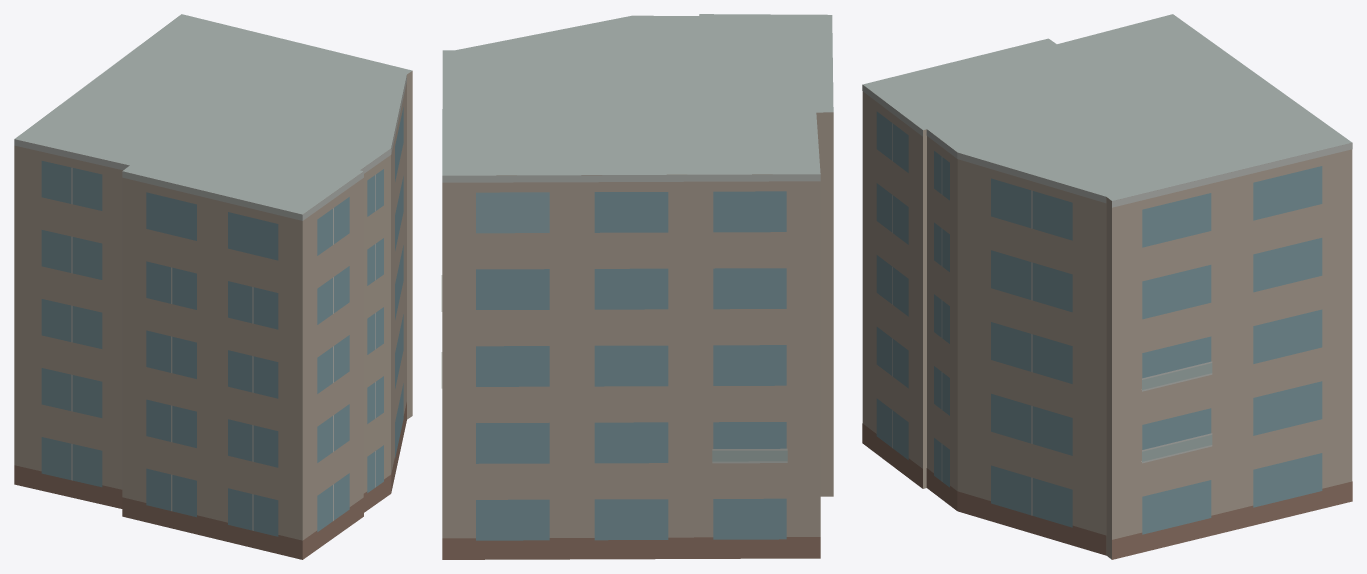
The model's file is survey-upis-32827254.glb.
The picture shows the model from 3 angles, left to right: view 1: azimuth 30°, elevation 25°; view 2: azimuth 150°, elevation 25°; view 3: azimuth 270°, elevation 25°; orthographic projection. The views are drawn at different scales.
Parts seen in each view (by area): view 1: survey-upis-32827254.tmp; view 2: survey-upis-32827254.tmp; view 3: survey-upis-32827254.tmp.
Part boxes in pixels (x1,y1,x2,y2): survey-upis-32827254.tmp: [14, 14, 412, 559]; survey-upis-32827254.tmp: [441, 14, 833, 559]; survey-upis-32827254.tmp: [862, 14, 1352, 559].
Size of the model in its own units: 14.77 by 13.2 by 16.35.
